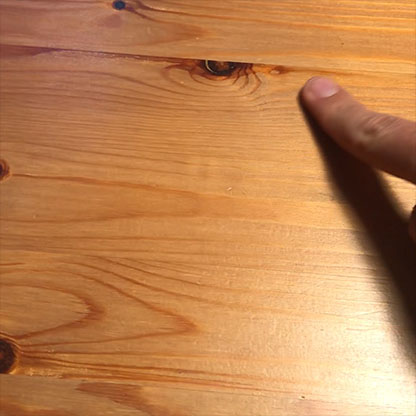fingertip: (296, 70, 348, 110)
